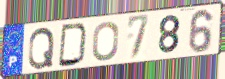6: (187, 8, 215, 55)
7: (126, 13, 150, 64)
8: (157, 14, 181, 55)
D: (57, 22, 90, 68)
O: (91, 20, 120, 63)
Q: (27, 26, 56, 71)
